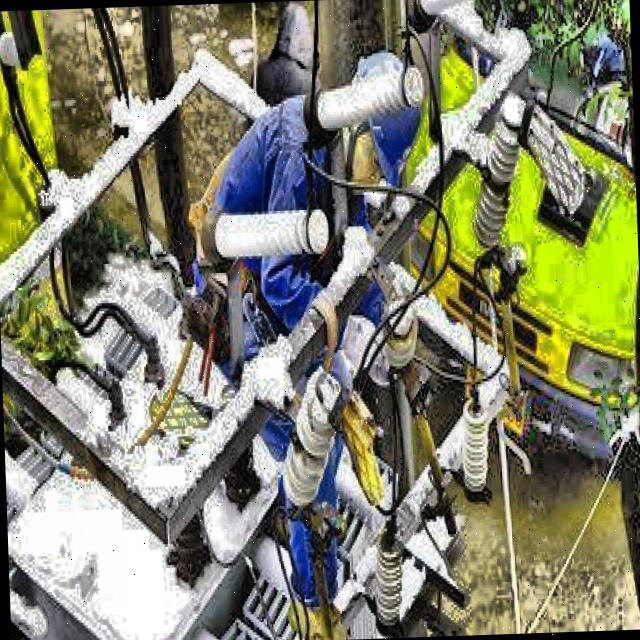helmet: (336, 38, 428, 197)
